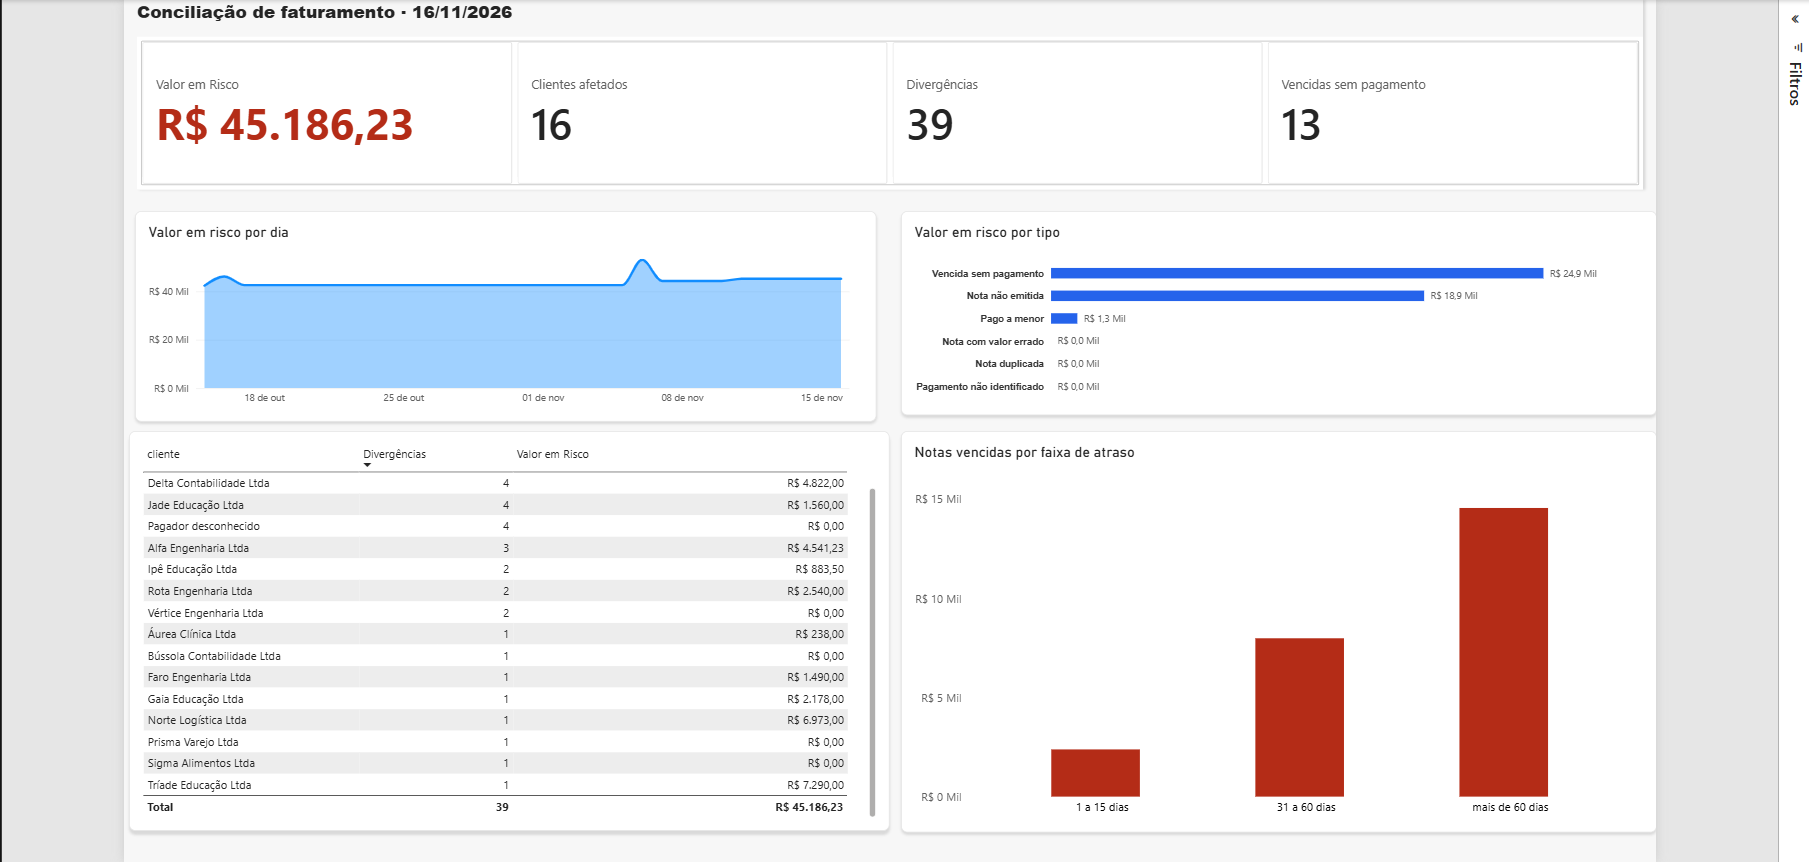

This screenshot's page, from the dashboard's own definition file:
{"tool":"powerbi","page":{"name":"Página 1","canvas":[1920,1080],"ordinal":0},"visuals":[{"type":"cardVisual","title":"Conciliação de faturamento · 16/11/2026","fields":{"Data":["vw_bi_divergencias.Valor em Risco","vw_bi_divergencias.Clientes afetados","vw_bi_divergencias.Divergências","vw_bi_divergencias.Vencidas sem pagamento"]},"box":[16.5,0,1887,237.5],"z":0},{"type":"areaChart","title":"Valor em risco por dia","fields":{"Category":["vw_bi_historico.data_base.Variação.Hierarquia de datas.Ano","vw_bi_historico.data_base.Variação.Hierarquia de datas.Trimestre","vw_bi_historico.data_base.Variação.Hierarquia de datas.Mês","vw_bi_historico.data_base.Variação.Hierarquia de datas.Dia"],"Y":["vw_bi_divergencias.Risco no histórico"]},"box":[13.2,263.9,928.7,263.9],"z":1000},{"type":"clusteredBarChart","title":"Valor em risco por tipo","fields":{"Category":["vw_bi_divergencias.tipo_descricao"],"Y":["vw_bi_divergencias.Valor em Risco"]},"box":[973.2,263.9,946.8,255.7],"z":2000},{"type":"tableEx","title":"Clientes com mais valor em risco","fields":{"Values":["vw_bi_divergencias.cliente","vw_bi_divergencias.Divergências","vw_bi_divergencias.Valor em Risco"]},"box":[6.6,539.4,953.4,501.4],"z":3000},{"type":"clusteredColumnChart","title":"Notas vencidas por faixa de atraso","fields":{"Category":["vw_bi_divergencias.faixa_atraso"],"Y":["vw_bi_divergencias.Valor em Risco"]},"box":[973.2,539.4,946.8,503.1],"z":4000}]}

Visuals, with their boxes on the page's 1920x1080 design canvas (x1, y1, x2, y2). These are canvas units, not pixel positions in the 1809x862 screenshot, which may show the page scaled, cropped or inside an application window:
"Conciliação de faturamento · 16/11/2026" cardVisual: crop(16, 0, 1904, 238)
"Valor em risco por dia" areaChart: crop(13, 264, 942, 528)
"Valor em risco por tipo" clusteredBarChart: crop(973, 264, 1920, 520)
"Clientes com mais valor em risco" tableEx: crop(7, 539, 960, 1041)
"Notas vencidas por faixa de atraso" clusteredColumnChart: crop(973, 539, 1920, 1042)
